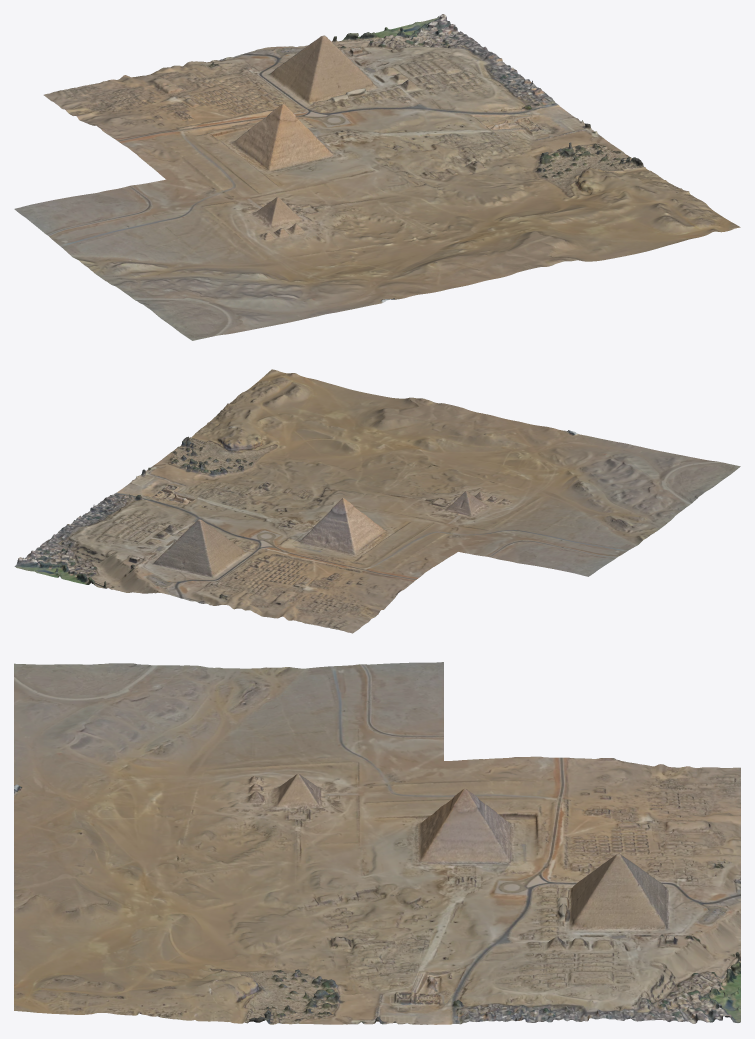
3 views of the same model, one above another, from view 1: azimuth 30°, elevation 25°; view 2: azimuth 150°, elevation 25°; view 3: azimuth 270°, elevation 25° (orthographic). The views are drawn at different scales.
Parts seen in each view (by area): view 1: EGY_001_M1_AllMemphis; view 2: EGY_001_M1_AllMemphis; view 3: EGY_001_M1_AllMemphis.
Boxes of the visible parts, x1,y1,x2,y2 form: EGY_001_M1_AllMemphis: (14,14,740,340); EGY_001_M1_AllMemphis: (14,369,740,633); EGY_001_M1_AllMemphis: (14,662,740,1024).
Bounding box in the file's own units: 1762 × 202 × 1678.
1 material, 1 textured.
